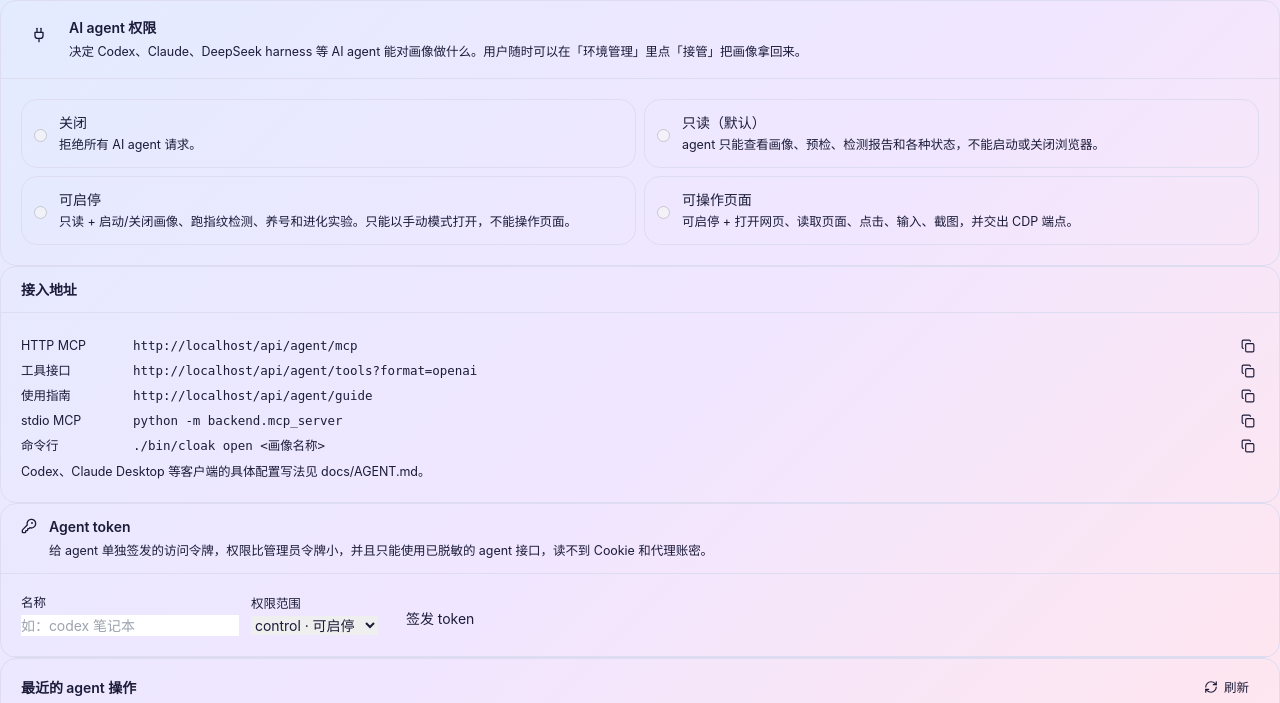
Test: AgentAccessPanel › creates a token, shows it once, and lists it
Type "codex 笔记本" into the field labelled "名称" at {"x": 130, "y": 626}, box [21,615,239,636]
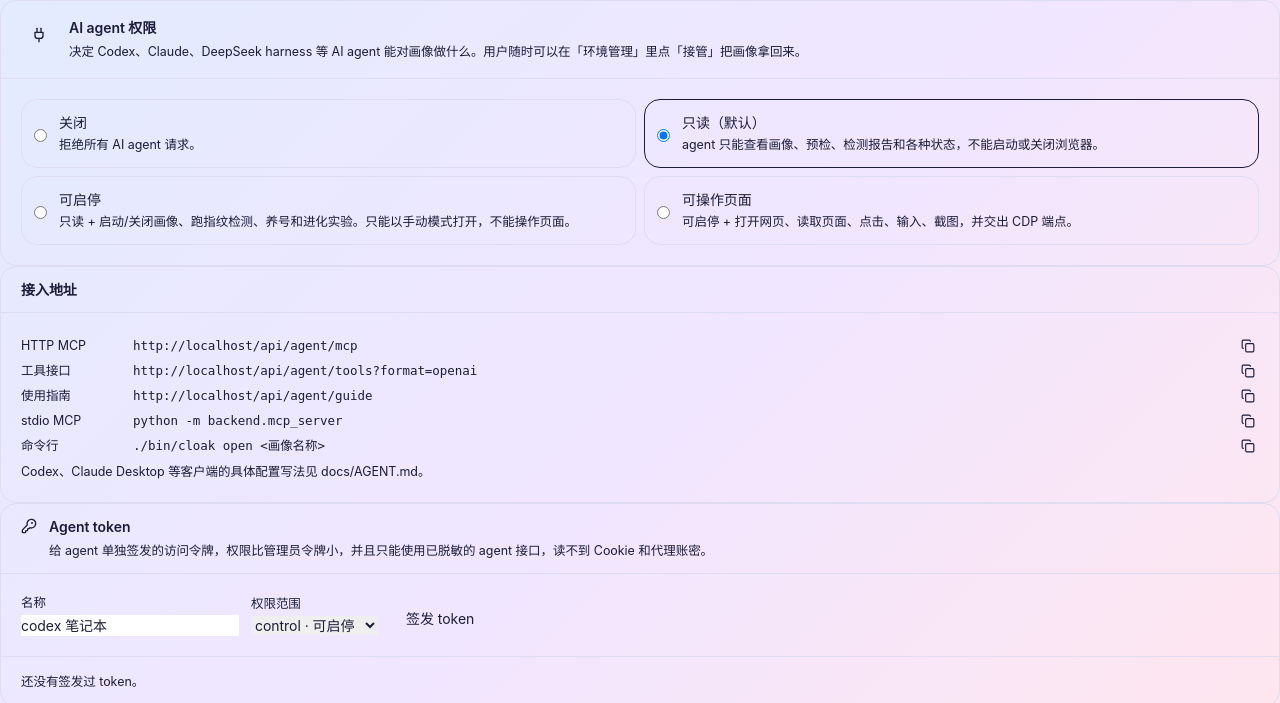
Click the button "签发 token" at {"x": 440, "y": 618}, box [390,600,490,636]
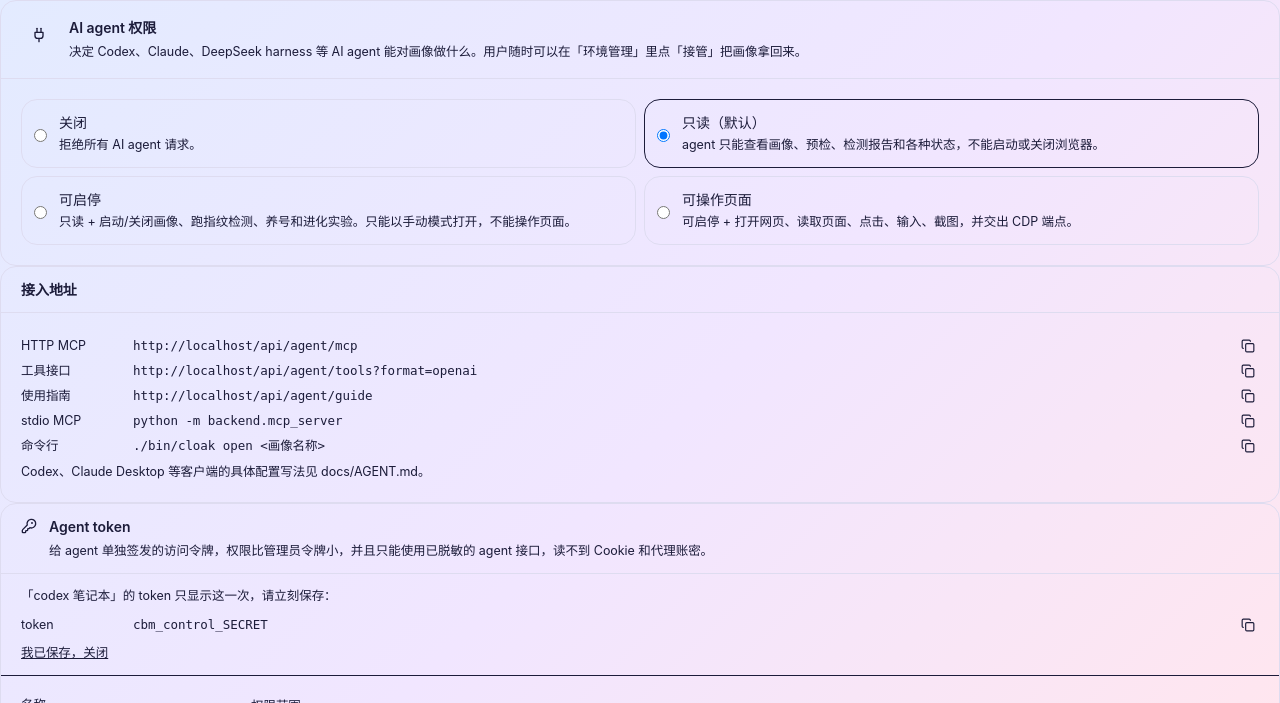
Expected: the text "cbm_control_SECRET" is shown, [133,617,268,632]
Expected: the text "「codex 笔记本」的 token 只显示这一次，请立刻保存：" is shown, [21,588,337,603]
Click the button "我已保存，关闭" at {"x": 65, "y": 653}, box [21,643,108,663]
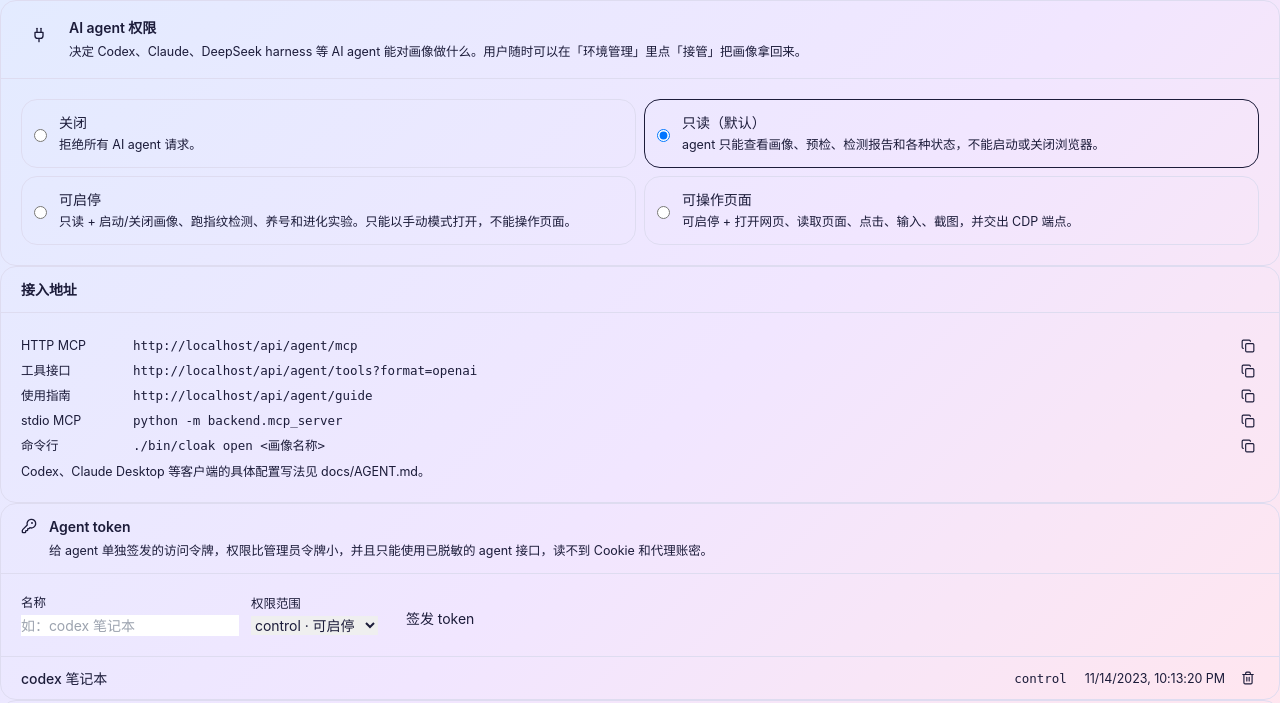
Expected: the button named "撤销 codex 笔记本" is shown, [1237,667,1259,689]
Expected: the text "cbm_control_SECRET" is gone
